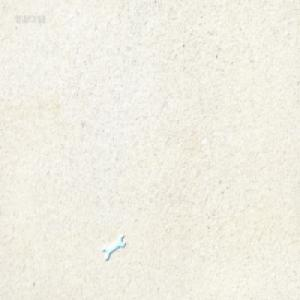Wrench: (103, 231, 125, 259)
